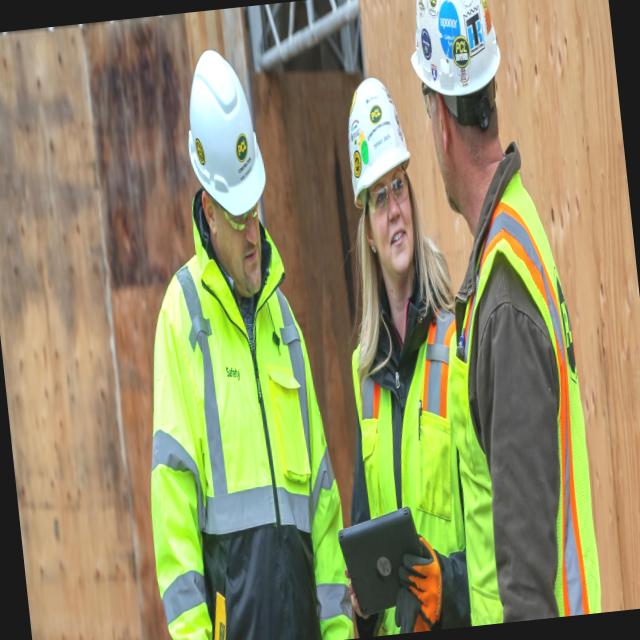helmet: (176, 39, 274, 235), (336, 76, 420, 221), (402, 0, 505, 101)
vest: (153, 252, 353, 640), (438, 180, 602, 624), (347, 328, 492, 636)
